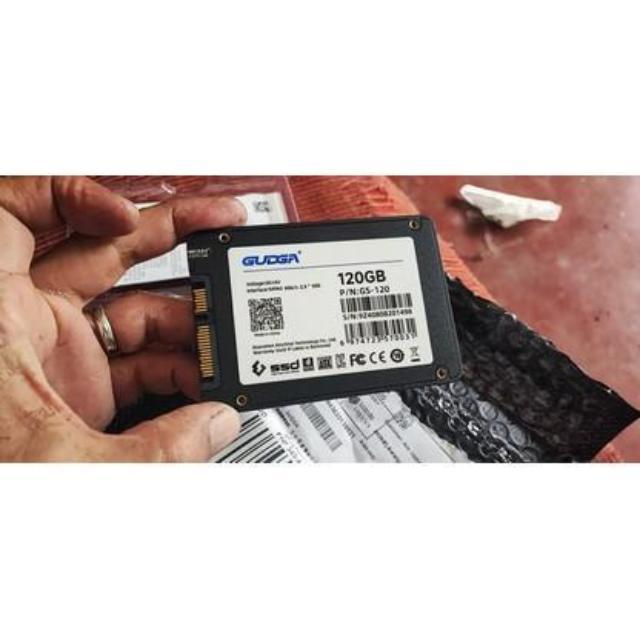DISK: (183, 214, 465, 406)
